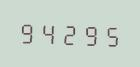five: (98, 21, 117, 48)
four: (38, 18, 57, 46)
nine: (18, 18, 37, 45), (78, 20, 97, 47)
two: (58, 19, 77, 47)
